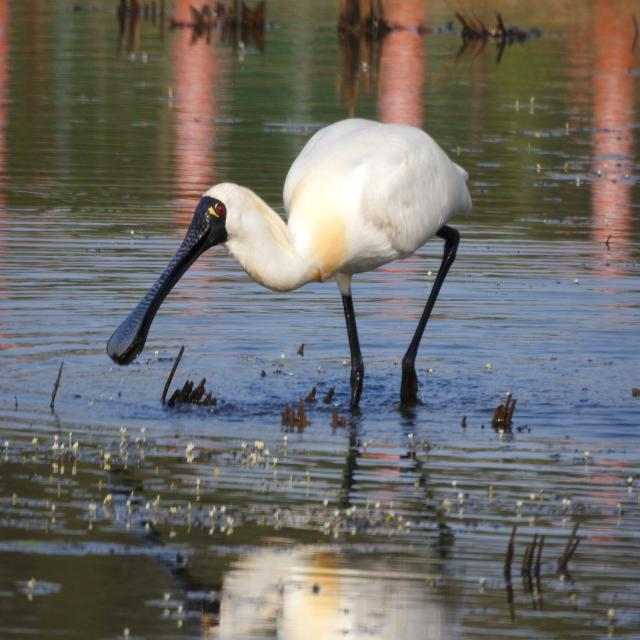Black-faced spoonbill: (107, 120, 471, 407)
